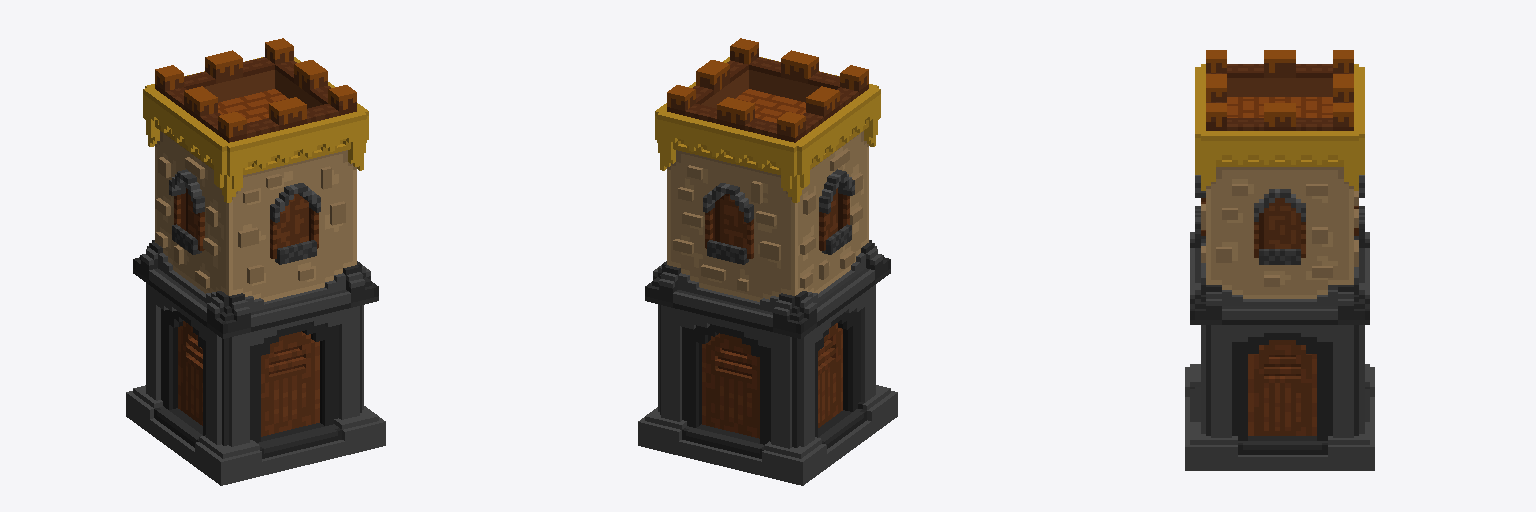
3 views of the same model, side by side, from view 1: azimuth 30°, elevation 25°; view 2: azimuth 150°, elevation 25°; view 3: azimuth 270°, elevation 25° (orthographic).
Parts seen in each view (by area): view 1: object 1; view 2: object 1; view 3: object 1.
Boxes of the visible parts, <box> form: object 1: <box>126,38,385,485</box>; object 1: <box>638,38,897,485</box>; object 1: <box>1185,50,1374,470</box>.
Bounding box in the file's own units: 3.6 × 7.3 × 3.6.
Materials: 1 (1 with a texture image).